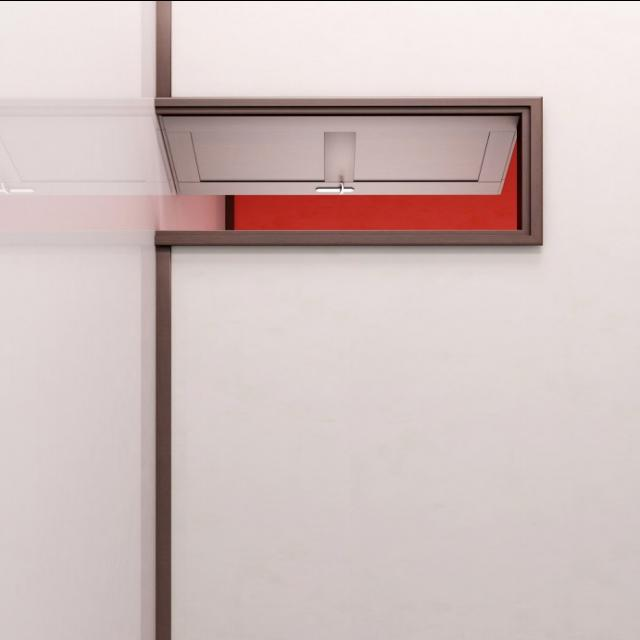open: (150, 100, 532, 236)
